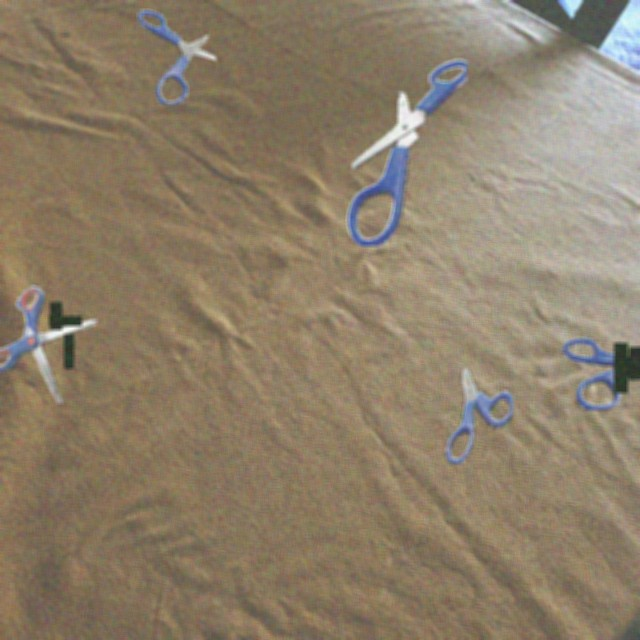scissors: (347, 59, 467, 246), (0, 286, 97, 403), (137, 9, 216, 104), (446, 367, 513, 464), (563, 338, 640, 410)
